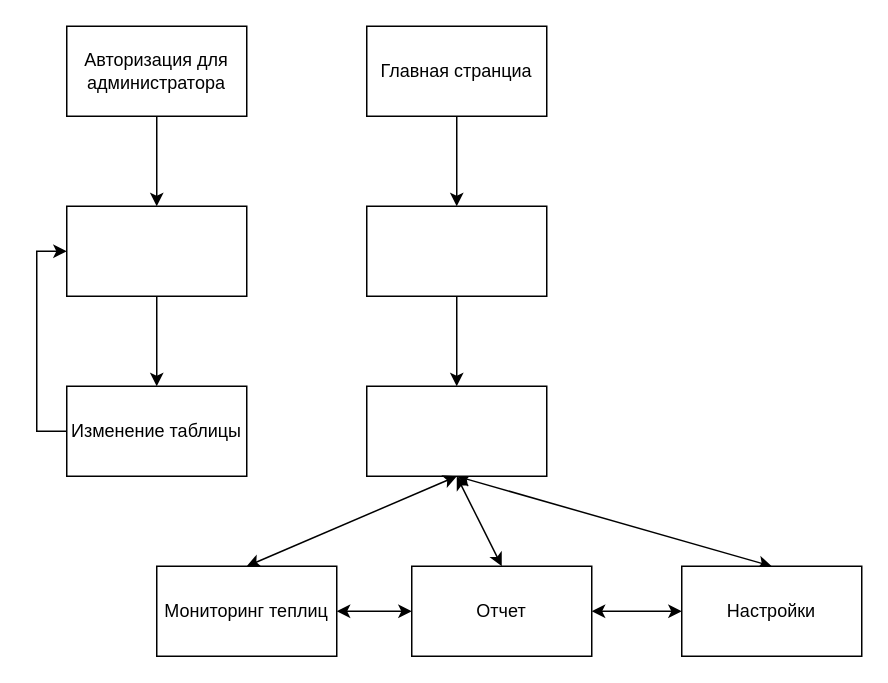
This 888x683 diagram has some shape labels left out. Here are the shapes that lost their labels. From the top down, the centre of each, then its label:
the point at 156,250: Таблицы
the point at 456,250: Авторизация для пользователя
the point at 456,430: Добавить теплицу
